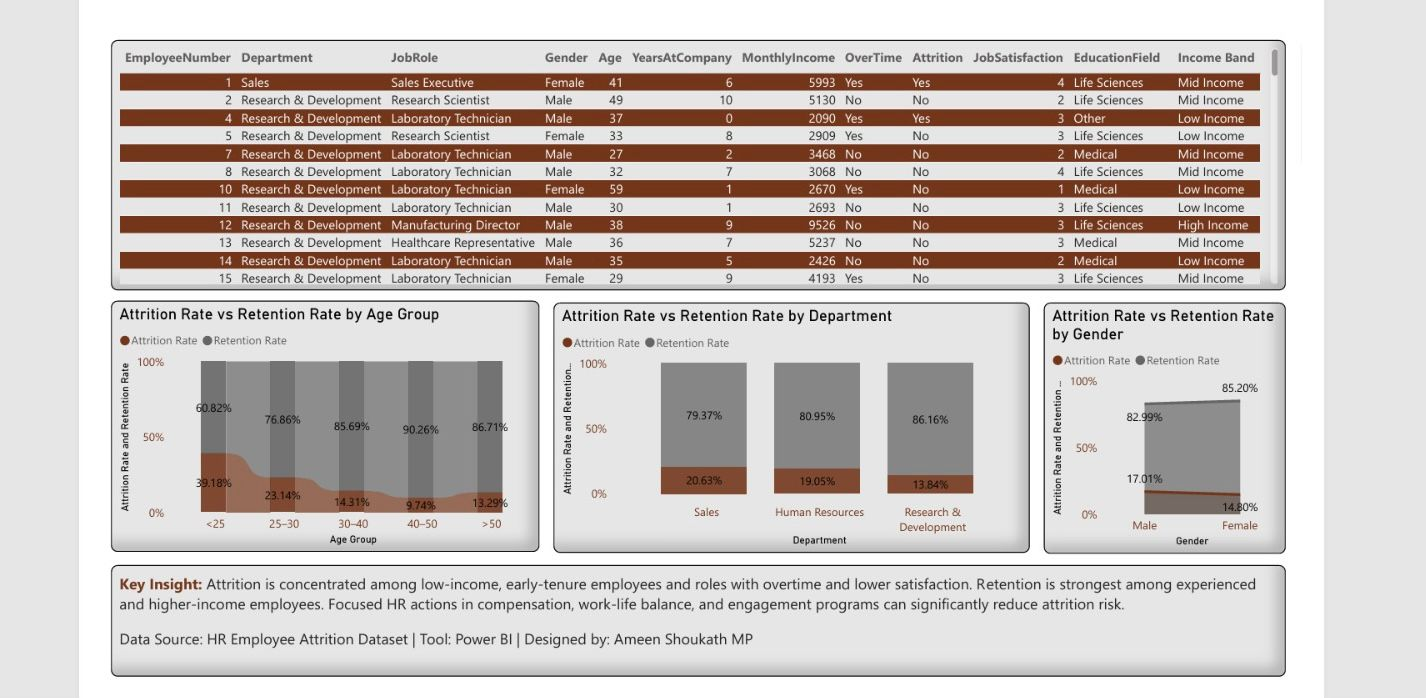

Layout of this report page (visuals, bound fields, positions):
{"tool":"powerbi","page":{"name":"Employee Details (Drill-Through)","canvas":[1280,720],"ordinal":3},"visuals":[{"type":"tableEx","fields":{"Values":["HR Employee Attrition&Retention.EmployeeNumber","HR Employee Attrition&Retention.Department","HR Employee Attrition&Retention.JobRole","HR Employee Attrition&Retention.Gender","HR Employee Attrition&Retention.Age","HR Employee Attrition&Retention.YearsAtCompany","HR Employee Attrition&Retention.MonthlyIncome","HR Employee Attrition&Retention.OverTime","HR Employee Attrition&Retention.Attrition","HR Employee Attrition&Retention.JobSatisfaction","HR Employee Attrition&Retention.EducationField","HR Employee Attrition&Retention.Income Band"]},"box":[9.8,30.6,1253.4,267.8],"z":0},{"type":"ribbonChart","title":"Attrition Rate vs Retention Rate by Age Group","fields":{"Y":["HR Employee Attrition&Retention.Attrition Rate","HR Employee Attrition&Retention.Retention Rate"],"Category":["HR Employee Attrition&Retention.Age Group"]},"box":[9.8,309.4,457.3,267.8],"z":2000},{"type":"lineStackedColumnComboChart","title":"Attrition Rate vs Retention Rate by Department","fields":{"Y":["HR Employee Attrition&Retention.Attrition Rate","HR Employee Attrition&Retention.Retention Rate"],"Category":["HR Employee Attrition&Retention.Department"]},"box":[481.8,310.6,508.7,267.8],"z":2001},{"type":"areaChart","title":"Attrition Rate vs Retention Rate by Gender","fields":{"Category":["HR Employee Attrition&Retention.Gender"],"Y":["HR Employee Attrition&Retention.Attrition Rate","HR Employee Attrition&Retention.Retention Rate"]},"box":[1005,311,258,268],"z":2002},{"type":"textbox","box":[9.8,590.6,1253.4,119.8],"z":2003},{"type":"actionButton","box":[0,0,41.6,30.6],"z":2004}]}

Visuals, with their boxes on the page's 1280x720 design canvas (x1, y1, x2, y2). These are canvas units, not pixel positions in the 1426x698 screenshot, which may show the page scaled, cropped or inside an application window:
tableEx - HR Employee Attrition&Retention.EmployeeNumber x HR Employee Attrition&Retention.Department: box=[10, 31, 1263, 298]
"Attrition Rate vs Retention Rate by Age Group" ribbonChart: box=[10, 309, 467, 577]
"Attrition Rate vs Retention Rate by Department" lineStackedColumnComboChart: box=[482, 311, 990, 578]
"Attrition Rate vs Retention Rate by Gender" areaChart: box=[1005, 311, 1263, 579]
textbox: box=[10, 591, 1263, 710]
actionButton: box=[0, 0, 42, 31]
